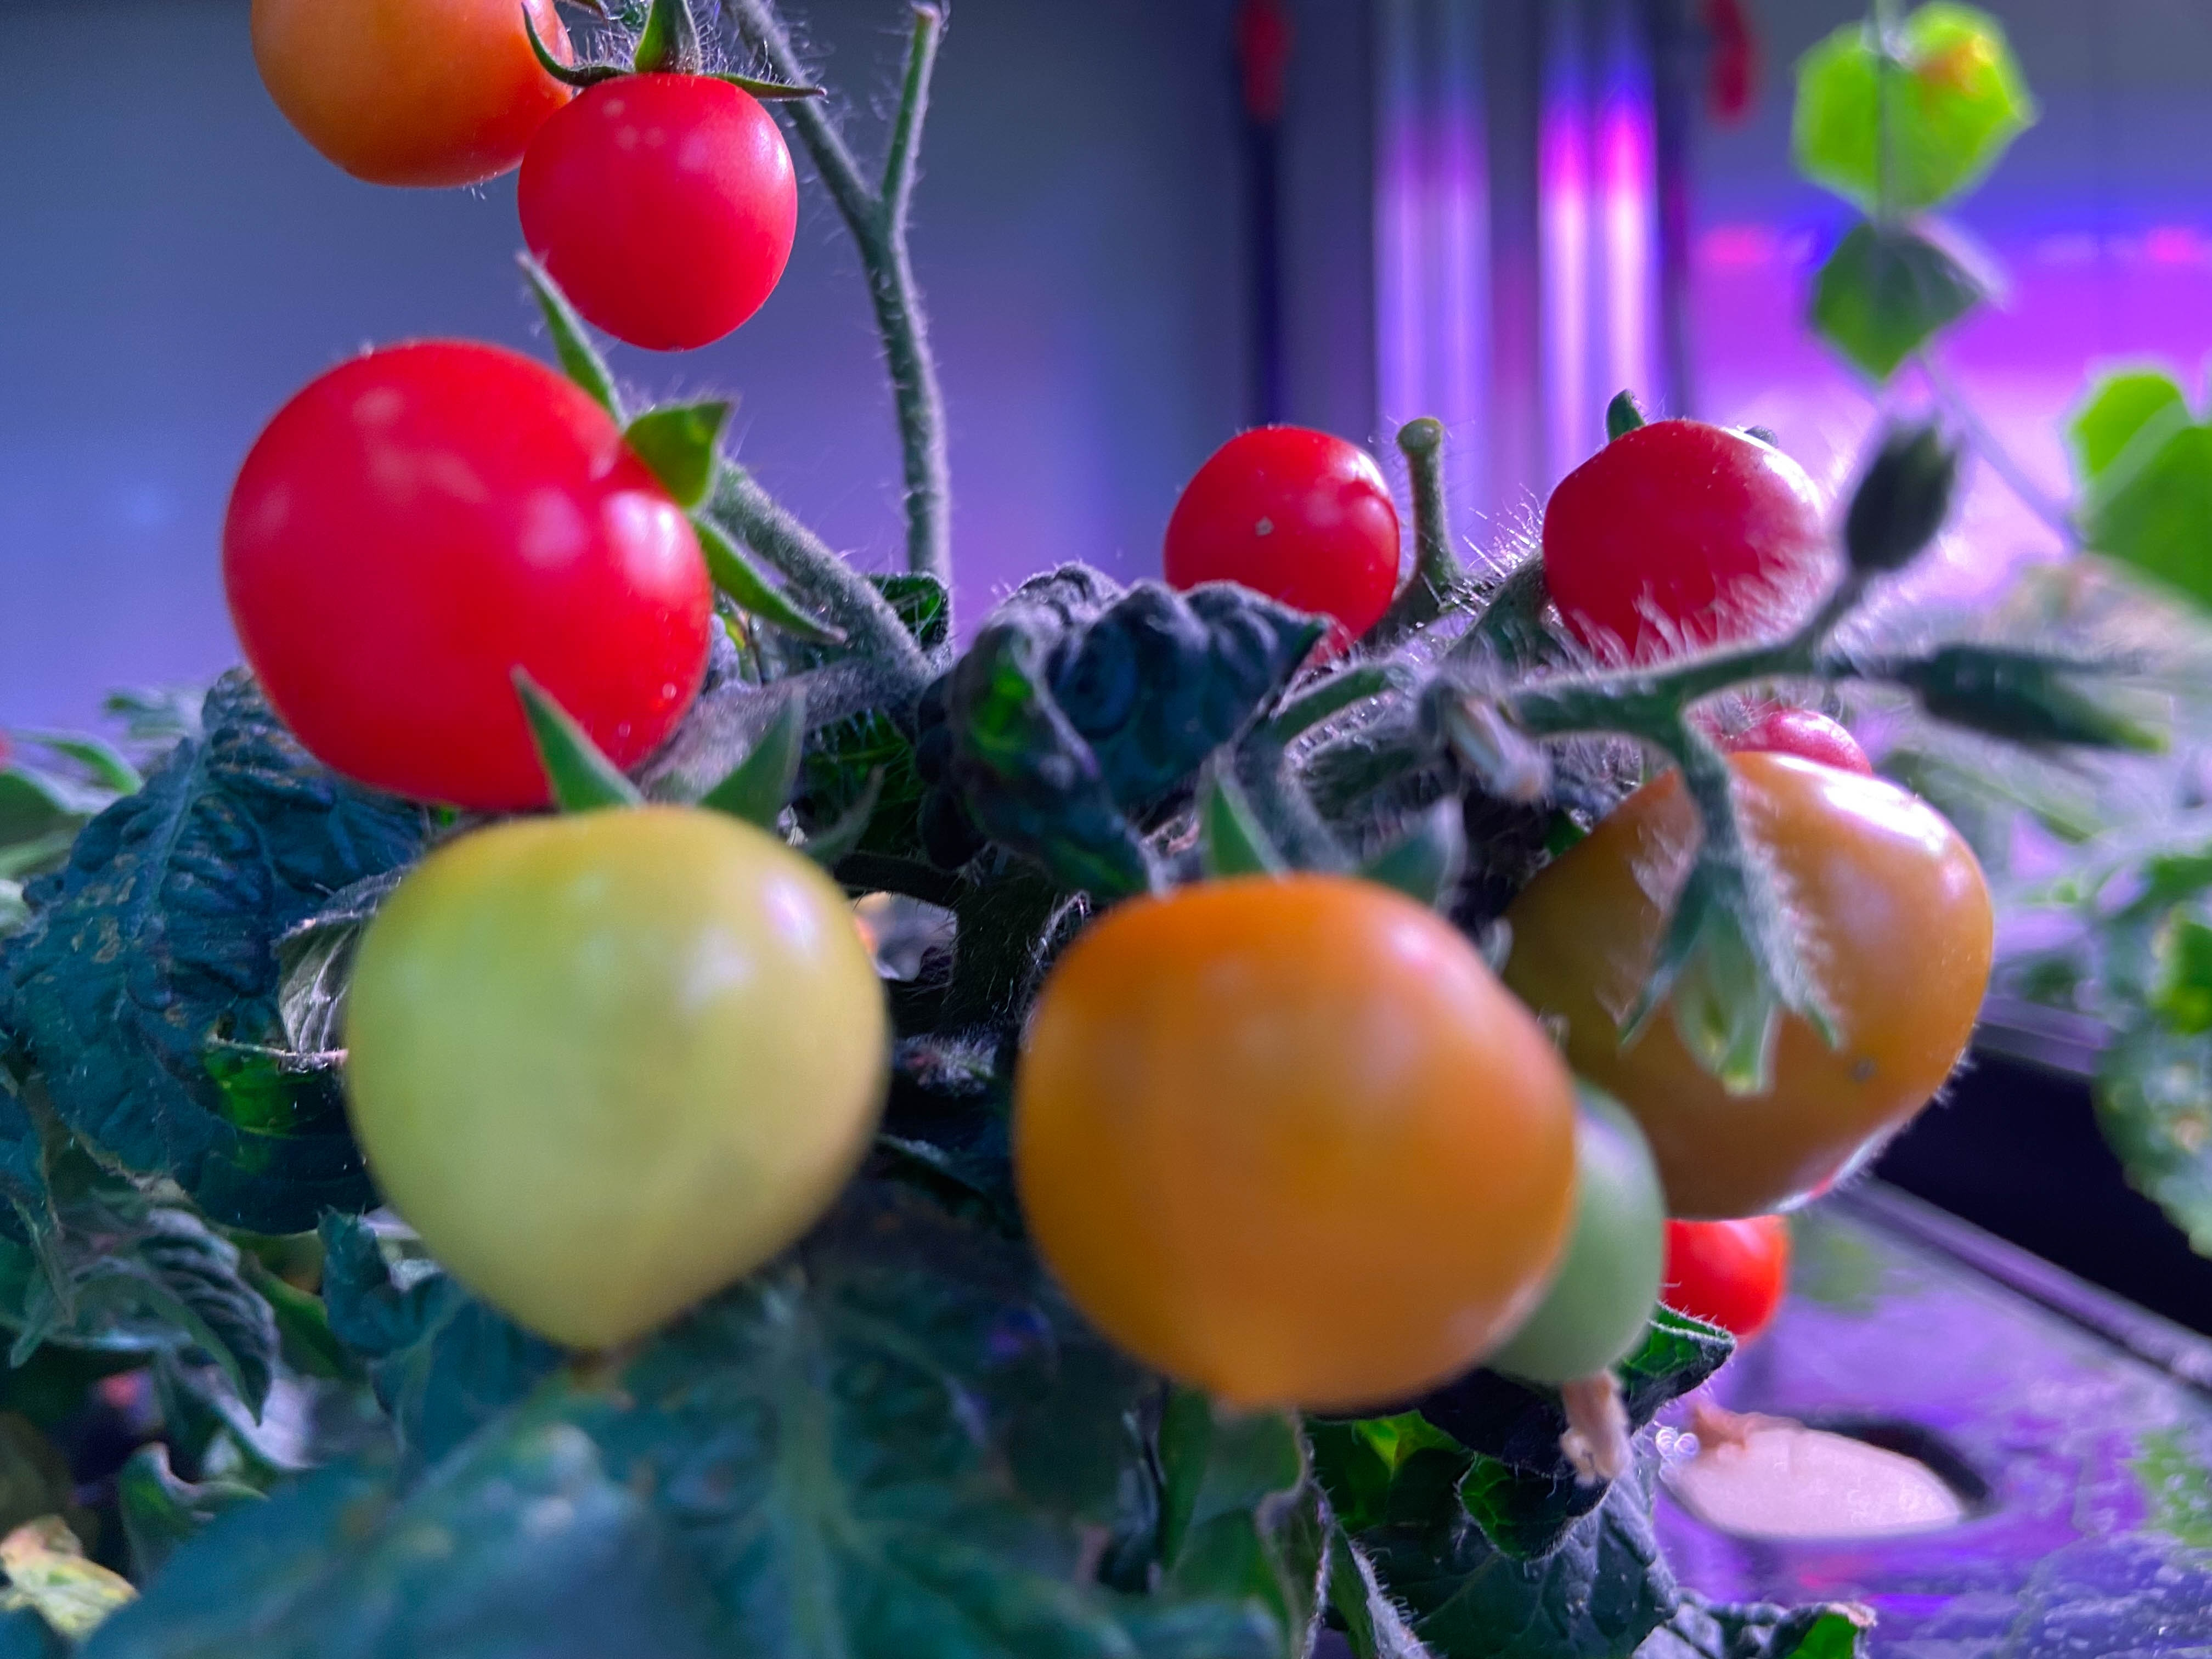green: (345, 788, 894, 1354), (1460, 1112, 1667, 1396)
red: (1010, 857, 1581, 1412), (1500, 735, 1987, 1230), (219, 335, 705, 807), (514, 66, 806, 349), (1541, 416, 1815, 678), (246, 0, 582, 186), (1162, 422, 1411, 652), (1653, 1195, 1791, 1345)
